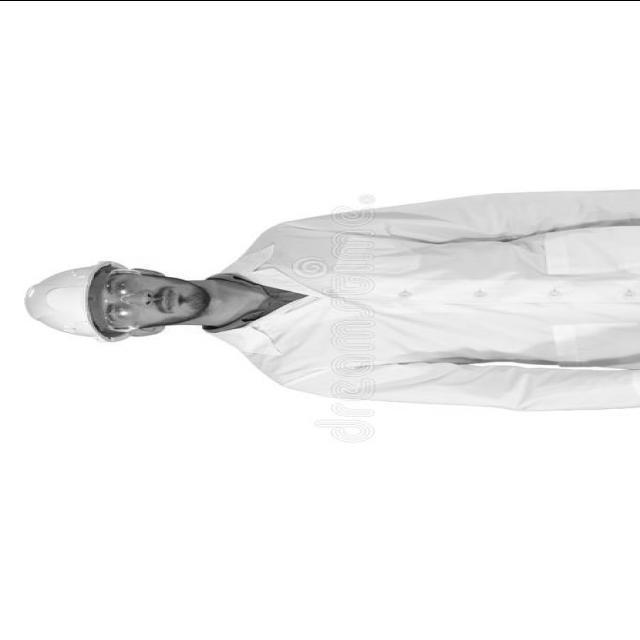safety_helmet: (24, 259, 111, 342)
